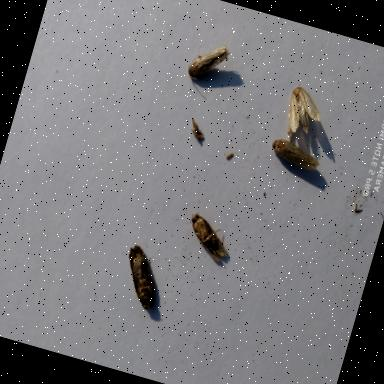pbw: (112, 242, 172, 316), (278, 81, 330, 147), (178, 210, 238, 266), (184, 35, 234, 90), (266, 134, 324, 174), (188, 117, 204, 137), (188, 127, 207, 142), (225, 150, 235, 162)
